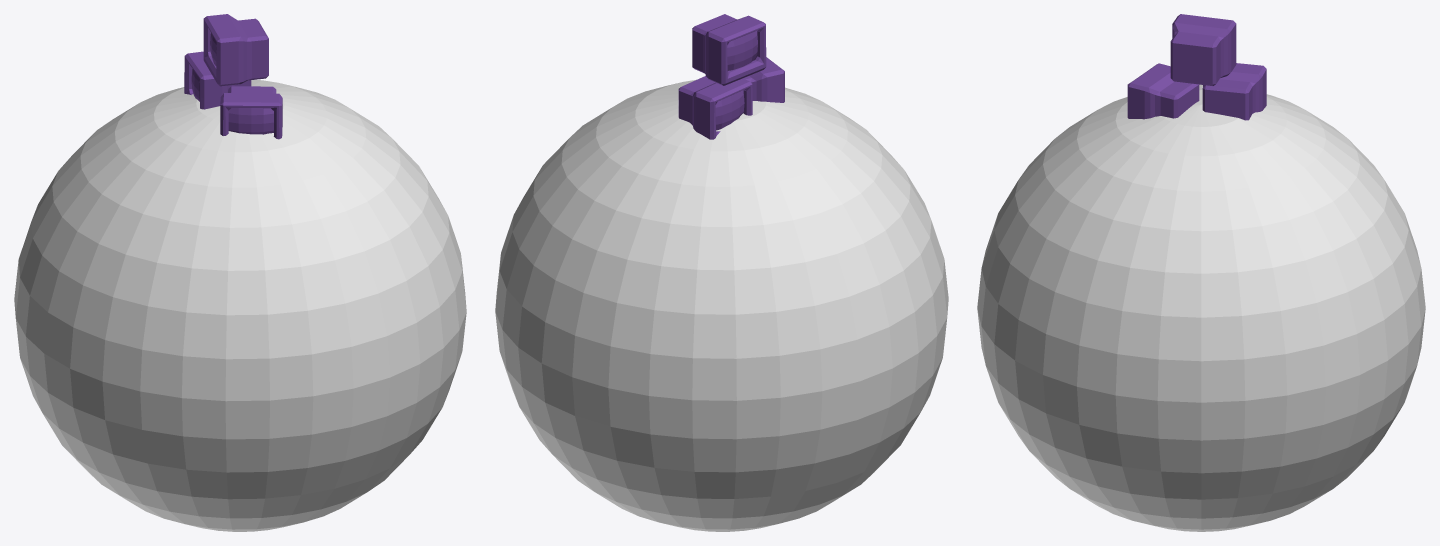
Rendered from table4.glb.
3 views of the same model, side by side, from view 1: azimuth 30°, elevation 25°; view 2: azimuth 150°, elevation 25°; view 3: azimuth 270°, elevation 25° (orthographic).
Visible parts, largest first — view 1: Sphere.001, Tv.033, Tv.026, Tv.032; view 2: Sphere.001, Tv.033, Tv.032, Tv.026; view 3: Sphere.001, Tv.033, Tv.026, Tv.032.
Boxes of the visible parts, x1,y1,x2,y2 form: Sphere.001: [14, 79, 466, 531]; Tv.033: [203, 14, 268, 86]; Tv.026: [220, 86, 282, 139]; Tv.032: [184, 51, 251, 109]; Sphere.001: [495, 79, 948, 531]; Tv.033: [692, 14, 766, 85]; Tv.032: [678, 76, 752, 139]; Tv.026: [743, 57, 784, 102]; Sphere.001: [977, 84, 1425, 531]; Tv.033: [1170, 14, 1236, 85]; Tv.026: [1127, 63, 1199, 119]; Tv.032: [1202, 63, 1266, 120].
Size of the model in its own units: 2 by 2.37 by 2.
